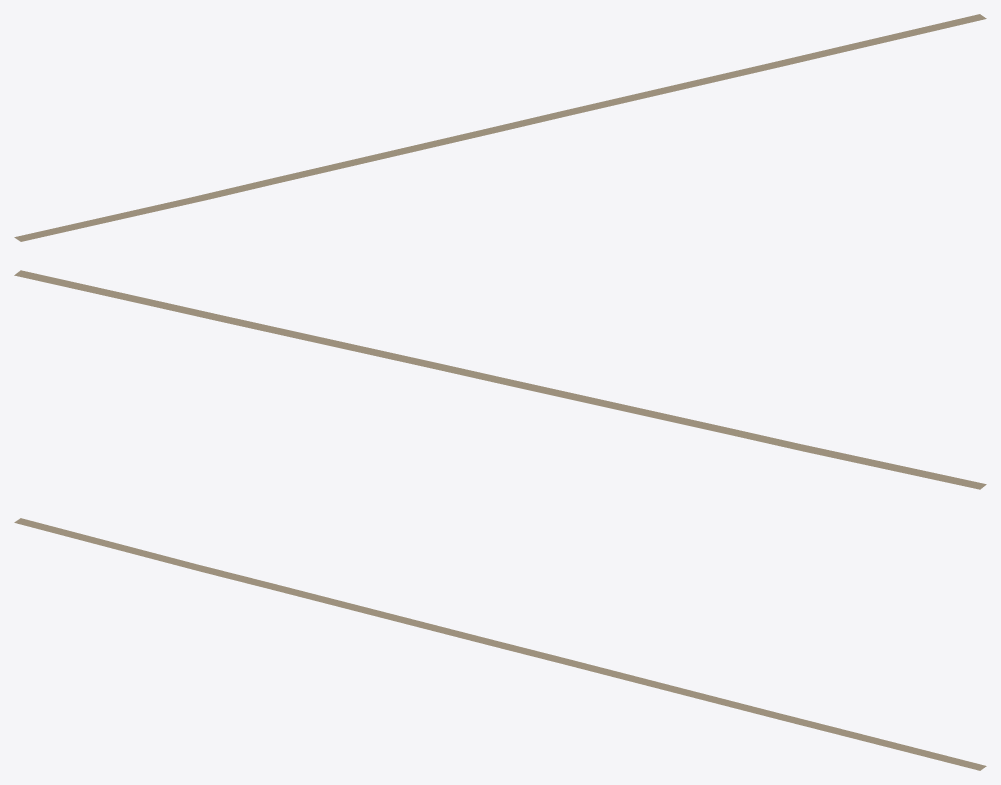
Rendered from farm_5_11_track.glb.
3 views of the same model, one above another, from view 1: azimuth 30°, elevation 25°; view 2: azimuth 150°, elevation 25°; view 3: azimuth 330°, elevation 25° (orthographic).
Visible parts, largest first — view 1: geometry_0; view 2: geometry_0; view 3: geometry_0.
Boxes of the visible parts, x1,y1,x2,y2 form: geometry_0: (14, 14, 986, 241); geometry_0: (14, 270, 986, 489); geometry_0: (14, 518, 986, 770).
Bounding box in the file's own units: 264 × 4.53 × 5.53.
